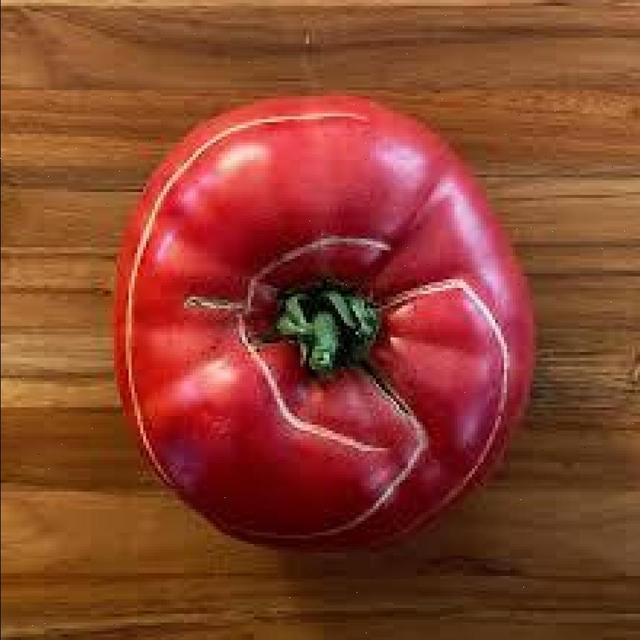Cracking Fruit: (112, 121, 287, 305)
